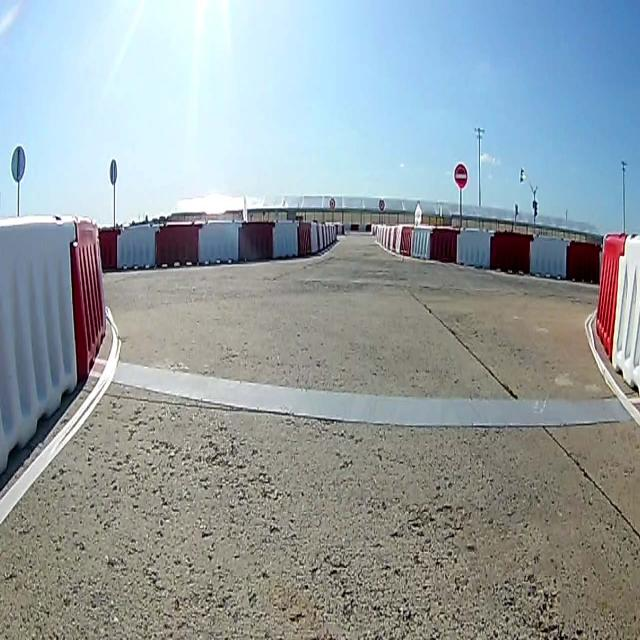girisyok: (454, 161, 469, 190)
